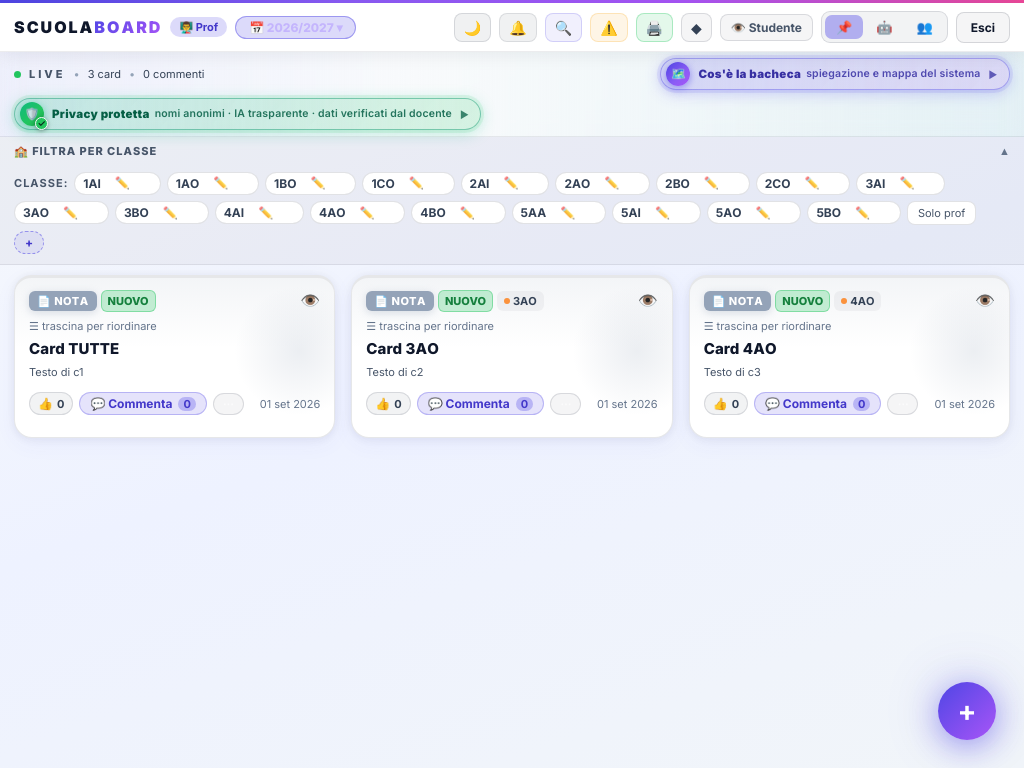
Test: Flussi principali — prof › filtra le card per classe
Expected: the text "Card TUTTE" is shown, [29, 338, 119, 358]
Click the button "3AO" at point(36, 212), box [15, 202, 57, 223]
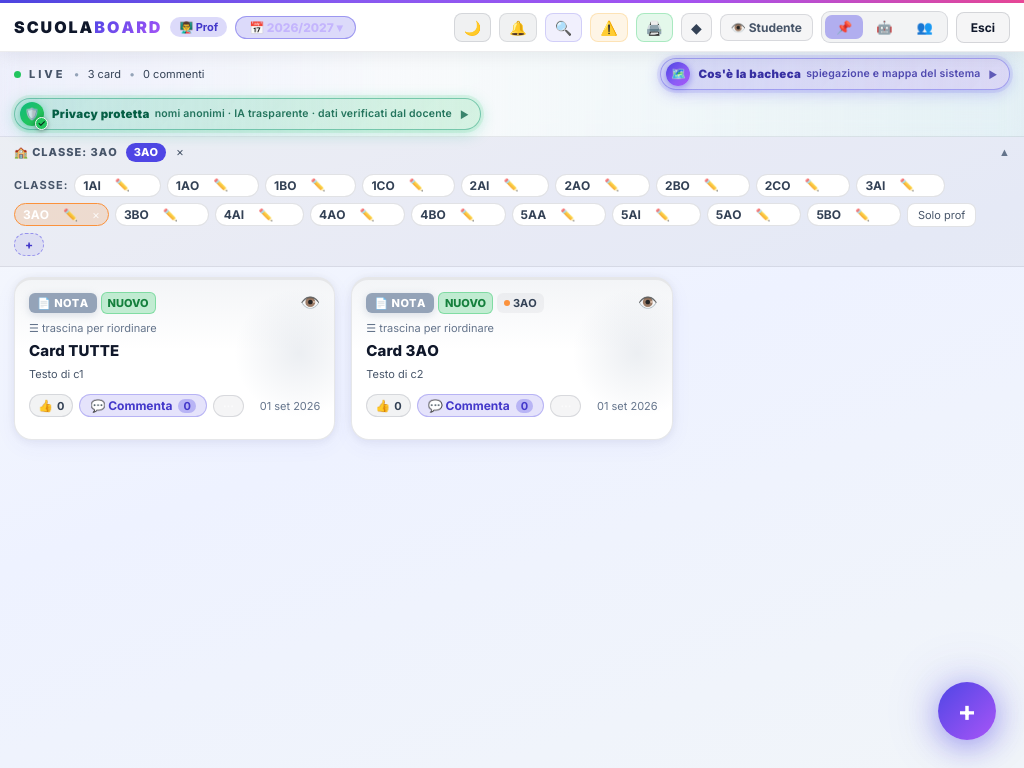
Expected: the text "Card 3AO" is shown, [366, 340, 439, 360]
Expected: the text "Card 4AO" is gone
